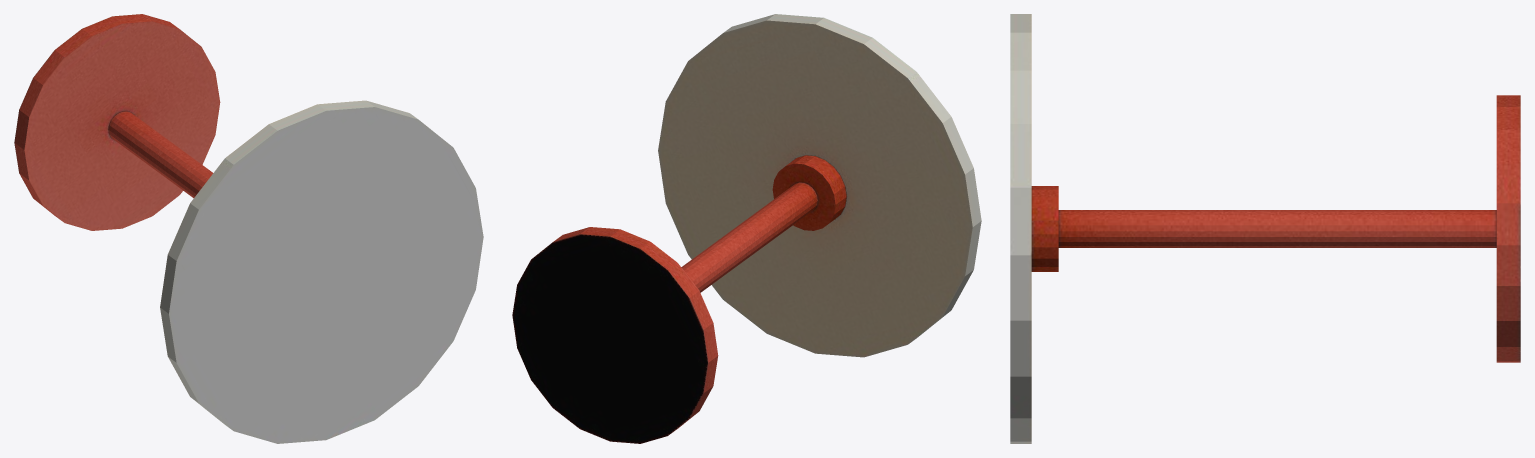
3 views of the same model, side by side, from view 1: azimuth 30°, elevation 25°; view 2: azimuth 150°, elevation 25°; view 3: azimuth 270°, elevation 25° (orthographic). The views are drawn at different scales.
Parts seen in each view (by area): view 1: B2a_final.001; view 2: B2a_final.001; view 3: B2a_final.001.
Boxes of the visible parts, x1,y1,x2,y2 form: B2a_final.001: (14,14,483,443); B2a_final.001: (512,14,981,443); B2a_final.001: (1010,14,1520,443).
Size of the model in its own units: 0.45 by 0.45 by 0.53.
1 material, 1 textured.
